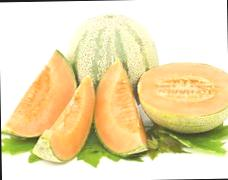Melon Ripe: (137, 60, 228, 134), (31, 76, 96, 162), (95, 60, 149, 158)
